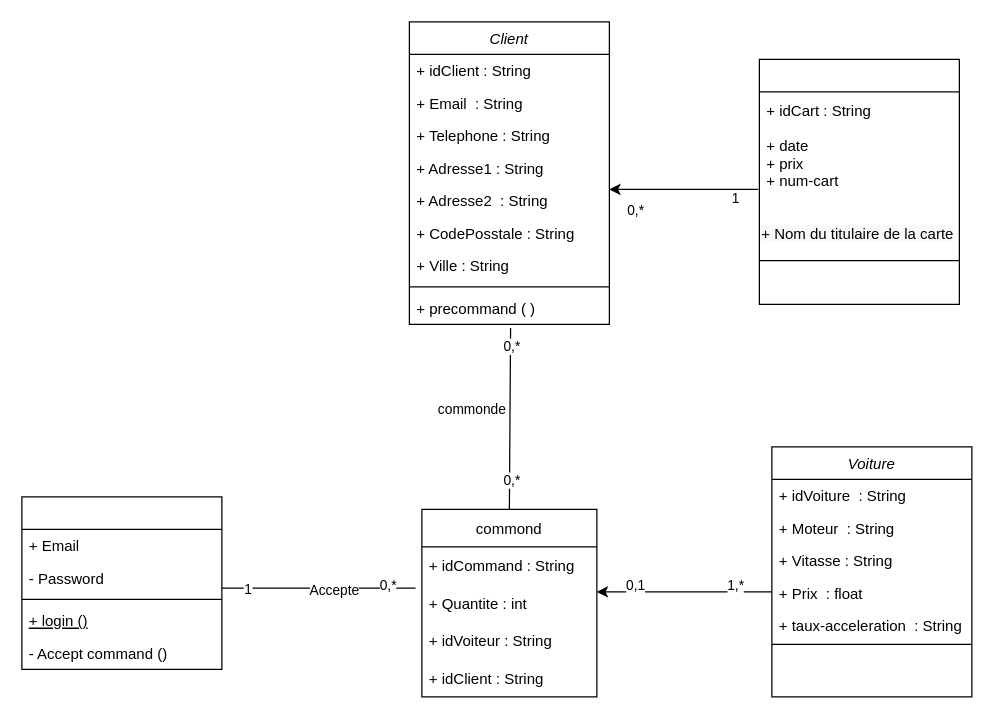
Some shapes in this 994 by 719 pixel diagram are drawn without their labels. The box of each missing label's shape, as (x1, y1, x2, y2) in pixels:
Admin: (21, 496, 222, 669)
carte boncair: (758, 58, 959, 304)
